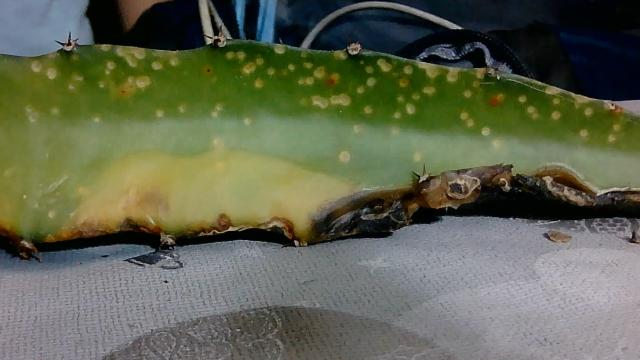stemcanker: (1, 38, 640, 244)
